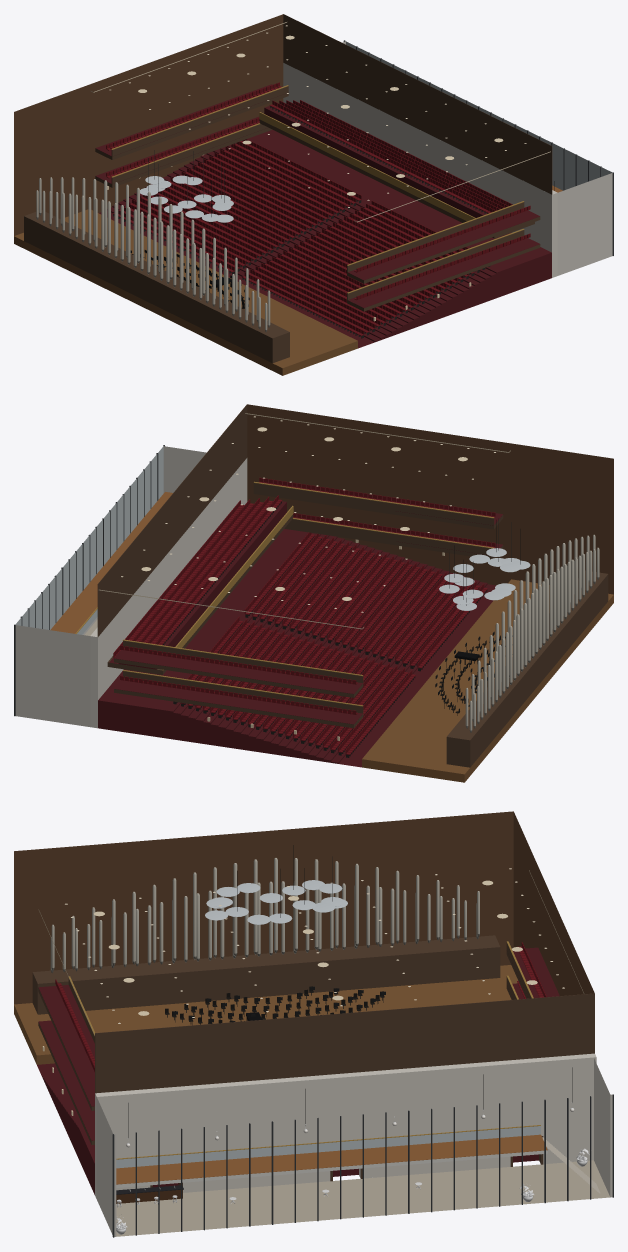
File: davies_int.glb
3 renders of one model, top to bottom at view 1: azimuth 30°, elevation 25°; view 2: azimuth 150°, elevation 25°; view 3: azimuth 270°, elevation 25°, orthographic. The views are drawn at different scales.
Visible parts, largest first — view 1: I_x_veneer, I_d_x_velvet, I_x_carpet_red, I_x_plaster, I_d_x_brass, I_x_wood_floor, I_glassI, I_x_gold, I_d_metal, I_metal, I_lampI, I_ceilglow; view 2: I_x_veneer, I_d_x_velvet, I_x_carpet_red, I_x_plaster, I_x_wood_floor, I_d_x_brass, I_glassI, I_d_metal, I_x_gold, I_x_parquet, I_metal, I_lampI (+2 smaller); view 3: I_x_veneer, I_x_plaster, I_x_terrazzo, I_d_x_brass, I_x_wood_floor, I_x_carpet_red, I_x_parquet, I_glassI, I_metal, I_d_x_veneer, I_d_metal, I_d_x_velvet (+2 smaller).
Part boxes in pixels (x1,y1,x2,y2): I_x_veneer: [14, 14, 552, 363]; I_d_x_velvet: [106, 82, 530, 335]; I_x_carpet_red: [95, 84, 551, 348]; I_x_plaster: [283, 41, 612, 277]; I_d_x_brass: [36, 177, 270, 329]; I_x_wood_floor: [14, 209, 357, 375]; I_glassI: [140, 41, 612, 222]; I_x_gold: [111, 85, 524, 293]; I_d_metal: [36, 106, 490, 338]; I_metal: [148, 40, 613, 255]; I_lampI: [107, 25, 526, 321]; I_ceilglow: [91, 22, 550, 222]; I_x_veneer: [97, 404, 613, 767]; I_d_x_velvet: [113, 477, 495, 754]; I_x_carpet_red: [98, 478, 502, 767]; I_x_plaster: [15, 446, 247, 728]; I_x_wood_floor: [362, 579, 613, 782]; I_d_x_brass: [465, 534, 599, 730]; I_glassI: [15, 445, 530, 634]; I_d_metal: [163, 501, 599, 757]; I_x_gold: [122, 481, 494, 706]; I_x_parquet: [50, 492, 172, 633]; I_metal: [14, 445, 520, 716]; I_lampI: [121, 416, 495, 740]; I_x_veneer: [14, 811, 594, 1203]; I_x_plaster: [95, 1053, 612, 1236]; I_x_terrazzo: [116, 1160, 610, 1236]; I_d_x_brass: [50, 858, 479, 970]; I_x_wood_floor: [14, 965, 518, 1064]; I_x_carpet_red: [37, 947, 559, 1194]; I_x_parquet: [116, 1134, 547, 1184]; I_glassI: [116, 880, 540, 1168]; I_metal: [112, 845, 613, 1237]; I_d_x_veneer: [165, 986, 384, 1023]; I_d_metal: [50, 934, 479, 1024]; I_d_x_velvet: [55, 942, 546, 1071].
Size of the model in its own units: 65.99 by 19.3 by 63.51.
